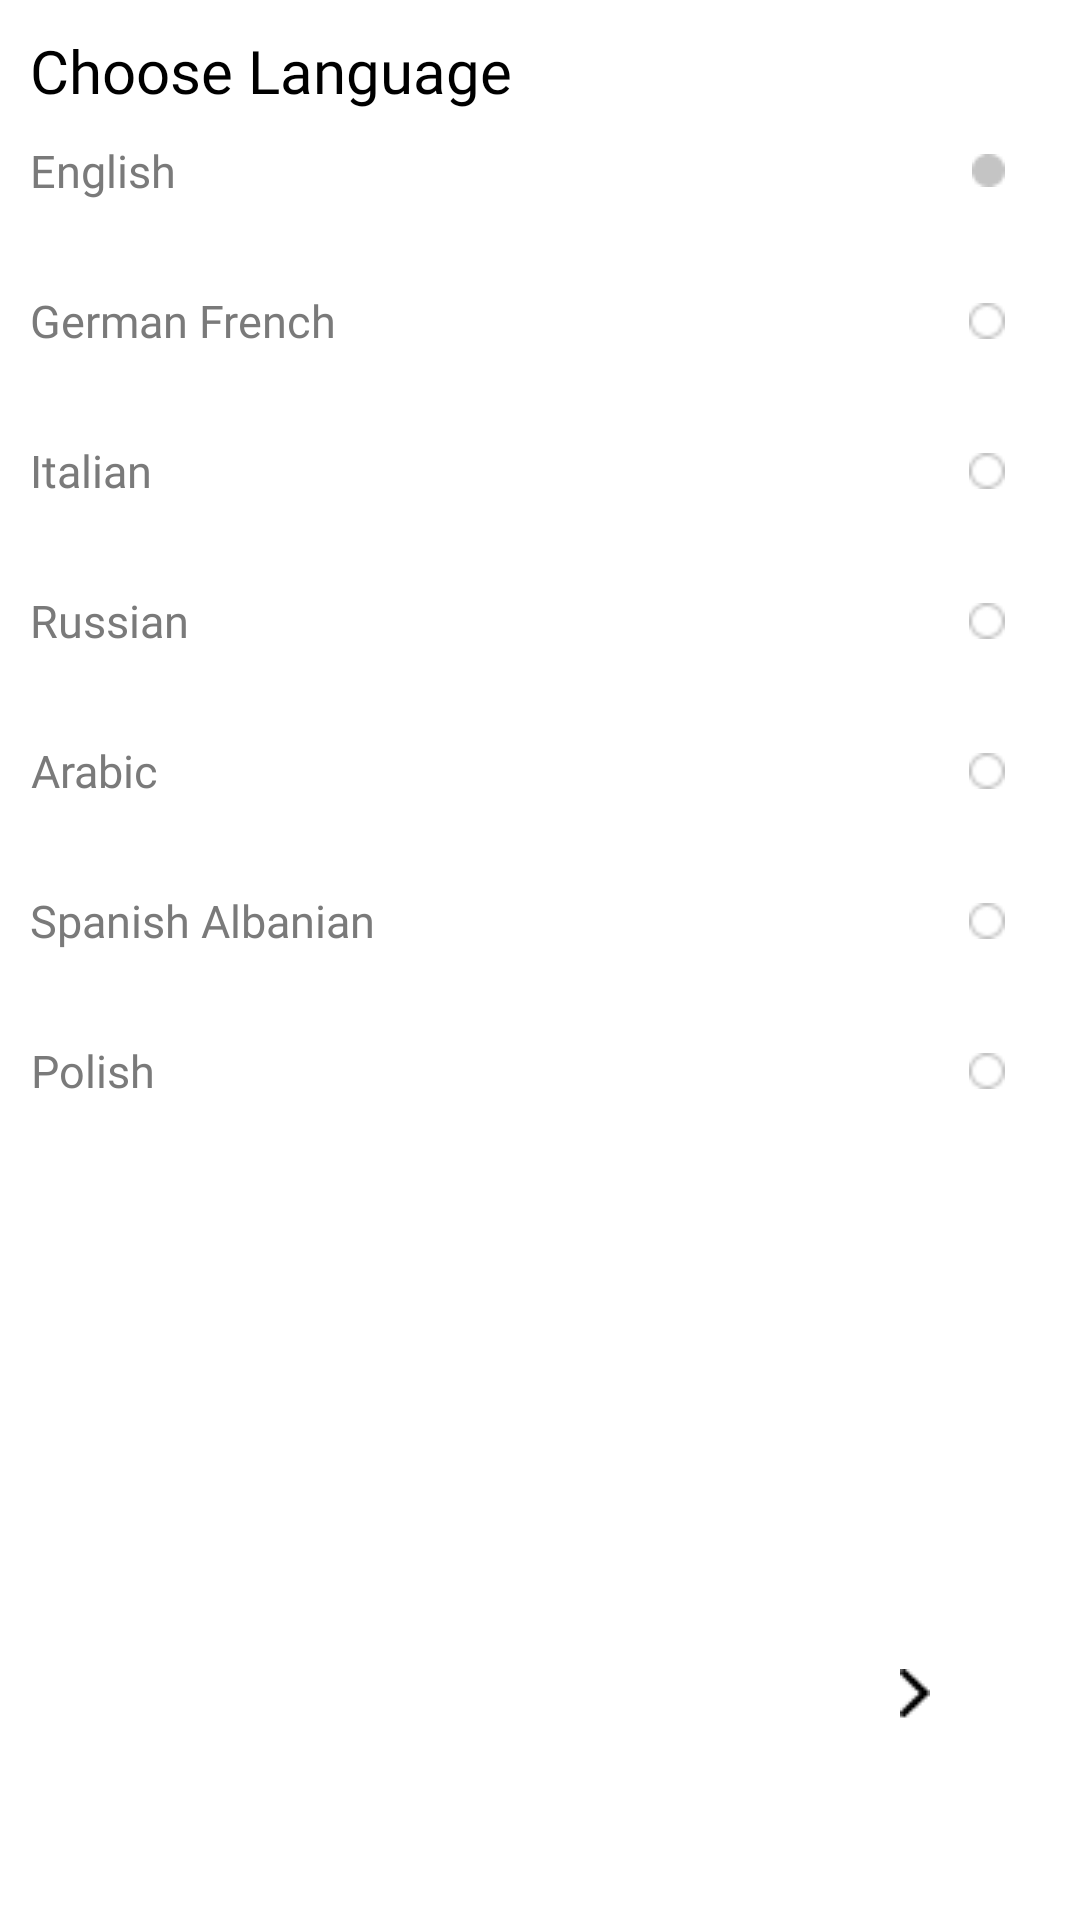

Screen size 1080 x 1920. Icon name, then its box in pixels as (x1, y1, x2, y2):
right arrow: (900, 1669, 930, 1718)
select: (972, 154, 1005, 187)
unselect: (969, 303, 1005, 339), (969, 453, 1005, 489), (969, 603, 1005, 639), (969, 753, 1005, 789), (969, 903, 1005, 939), (969, 1053, 1005, 1089)
